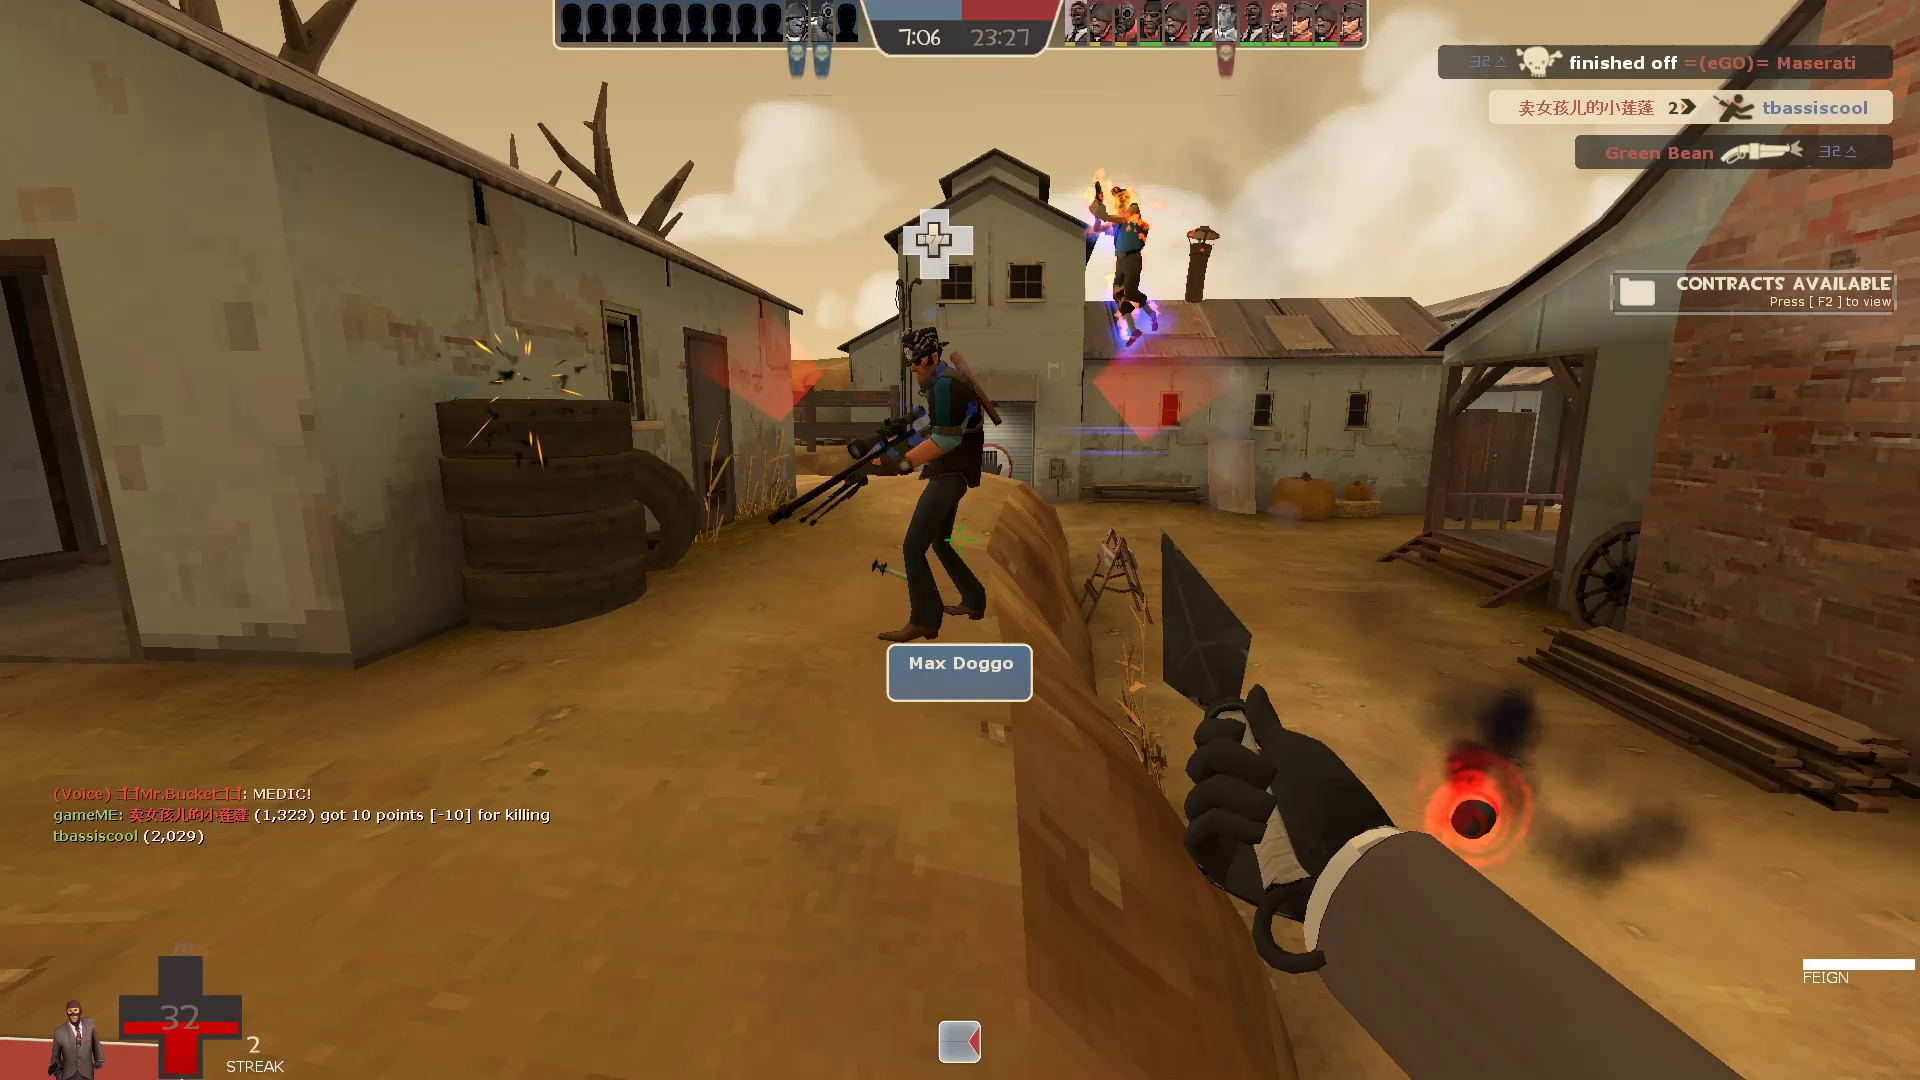blu_scout: (1075, 167, 1168, 352)
blu_sniper: (760, 320, 1013, 655)
